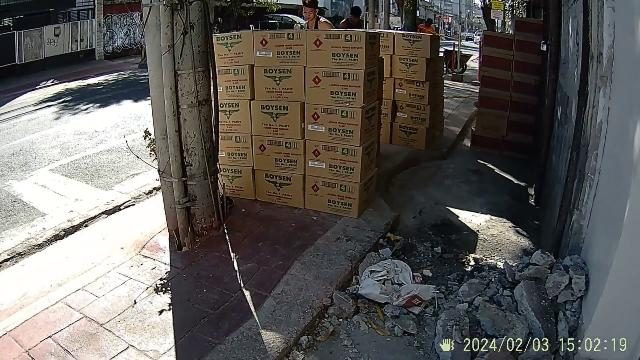cracked_pavement: (330, 241, 594, 337)
street_vendor_cart: (210, 22, 448, 221), (476, 13, 544, 153)
utility_post: (141, 1, 229, 242)
